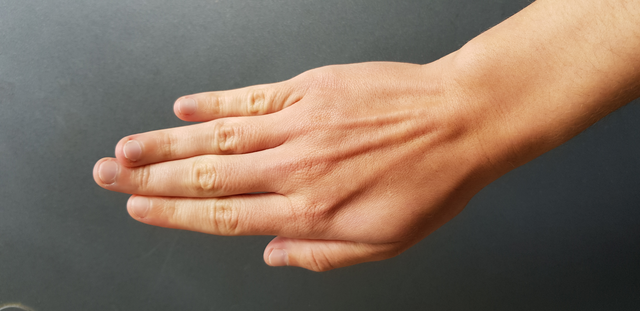Paper: (67, 61, 473, 277)
